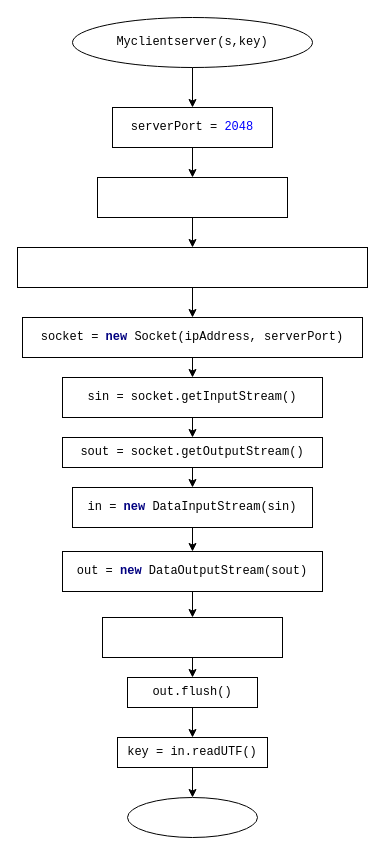
Some shapes in this 385 by 855 pixel diagram are drawn without their labels. Here are the shapes that lost their labels. From the top down, the centre of each, then its label:
(x=192, y=197): address = "192.168.24.24"
(x=192, y=267): ipAddress = InetAddress. getByName (address)
(x=192, y=637): out.writeBytes(s)
(x=192, y=817): Выход
